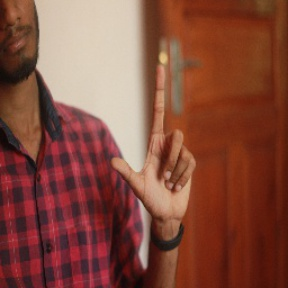L: (111, 61, 200, 218)
